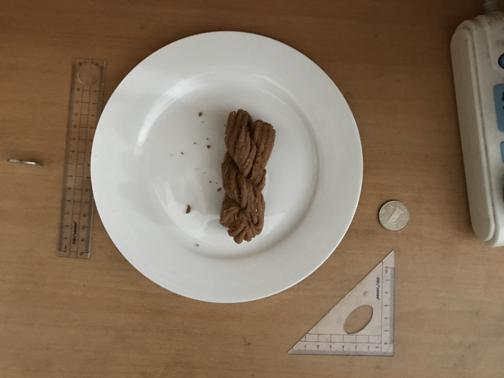coin: (377, 199, 411, 230)
fired_dough_twist: (220, 109, 276, 241)
